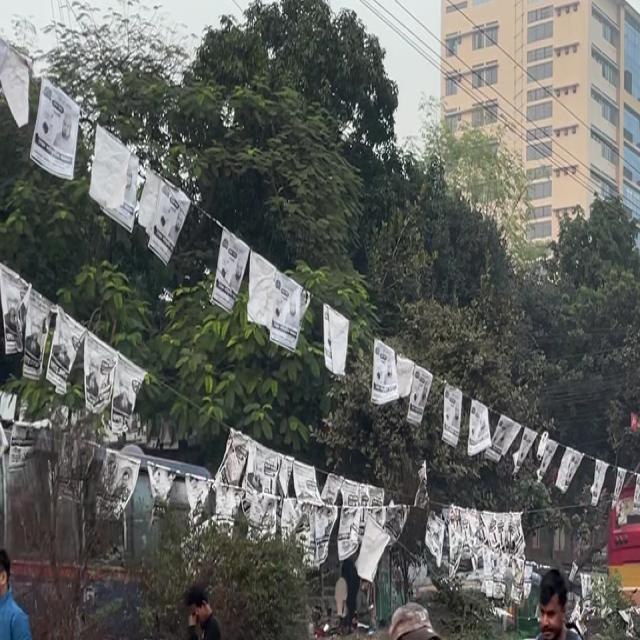bicycle: (419, 559, 613, 640)
motorbike: (163, 603, 262, 640)
